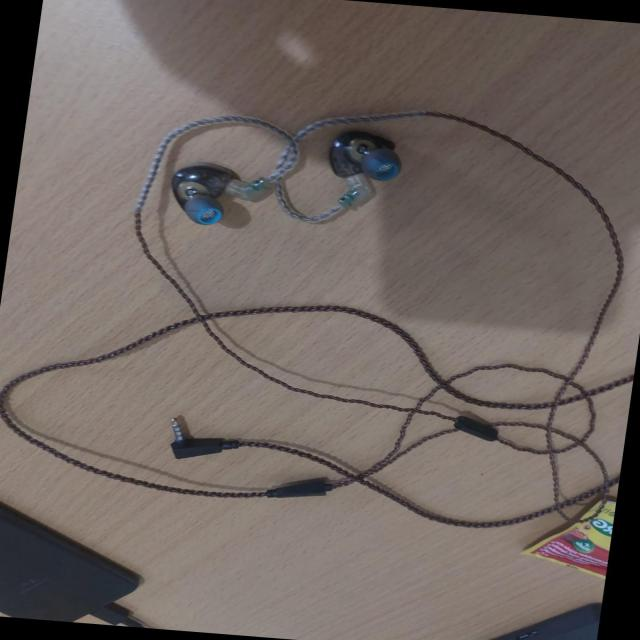earphone: (43, 80, 600, 588)
